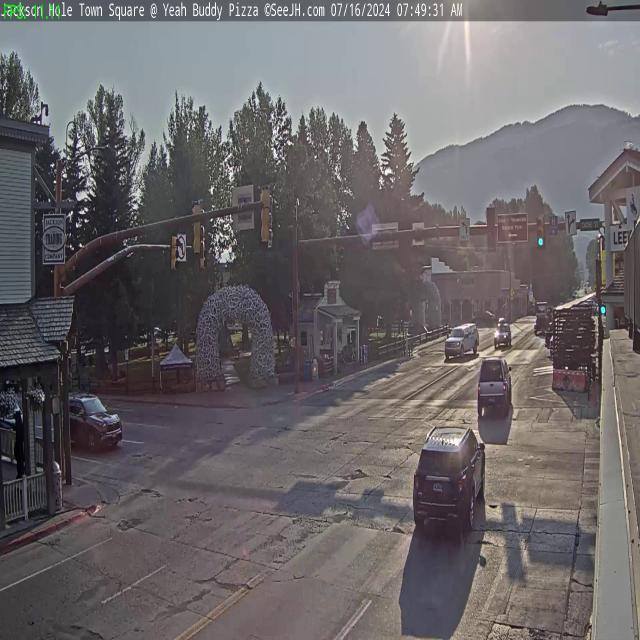suv: (413, 423, 487, 528), (61, 393, 122, 453), (444, 320, 477, 361), (494, 318, 512, 347)
traffic light: (190, 200, 203, 256), (260, 185, 272, 245), (486, 207, 496, 250), (170, 235, 178, 272), (537, 214, 545, 248)
truck: (480, 359, 514, 413)
